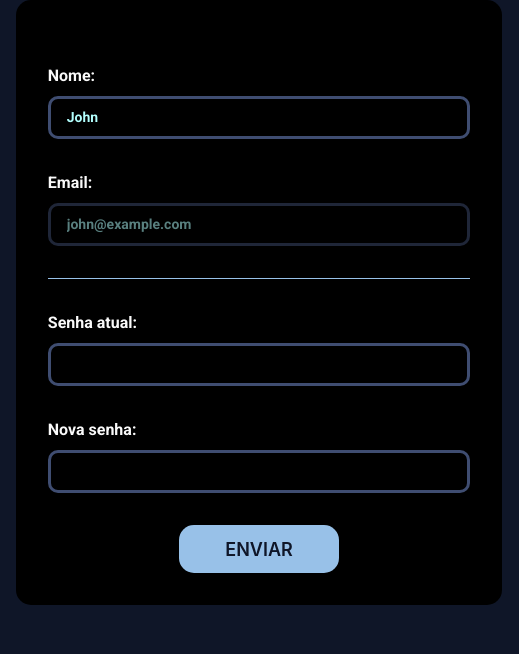
MyProfileForm Component › should show an error message for invalid name
This screenshot has width=519, height=654.
Step 1. Replace the text in the field labelled "Nome:" with "A" → (259, 118), box left=48, top=96, right=470, bottom=139
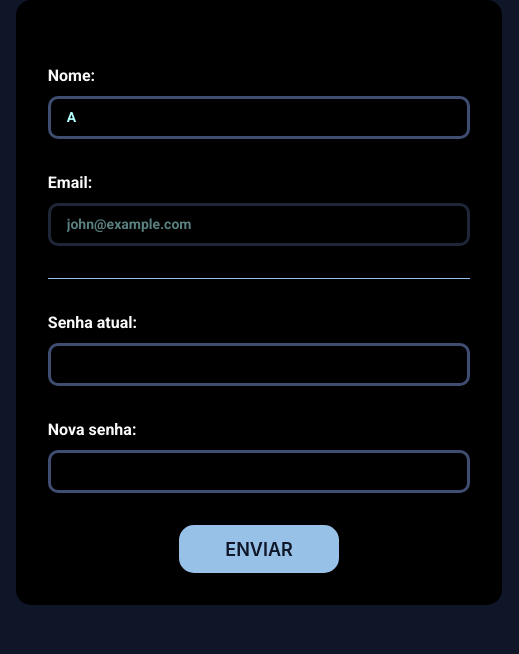
Step 2. Click the button "enviar" → (259, 549), box left=179, top=525, right=339, bottom=573
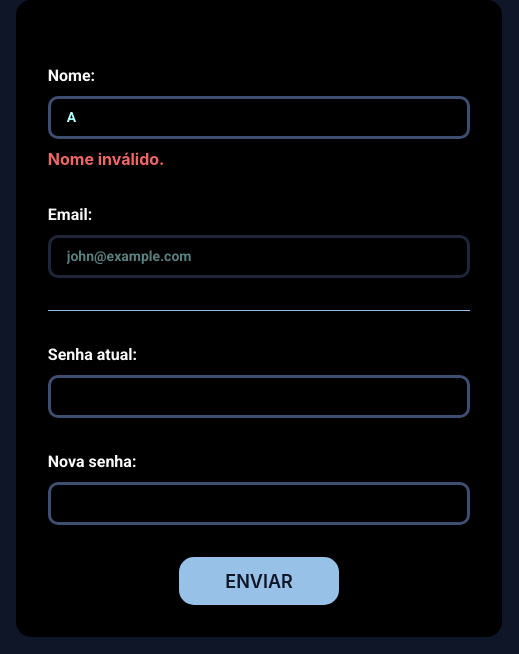
Result: the text "Nome inválido." is shown at left=48, top=149, right=164, bottom=169
